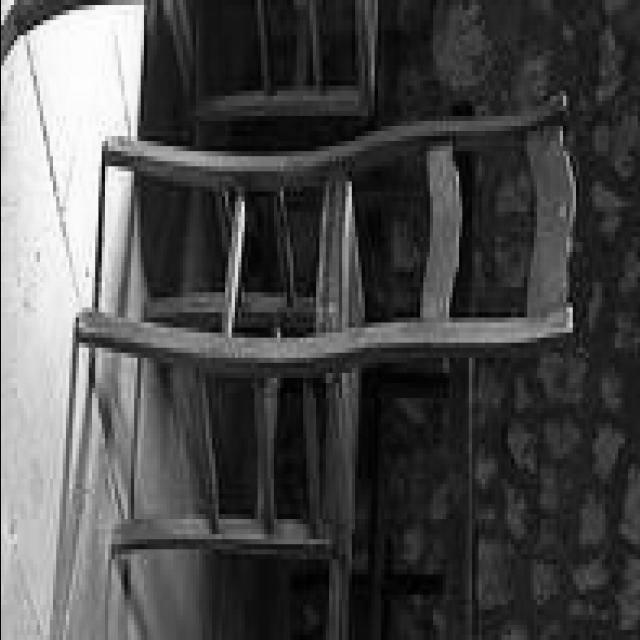chair: (73, 87, 581, 557)
